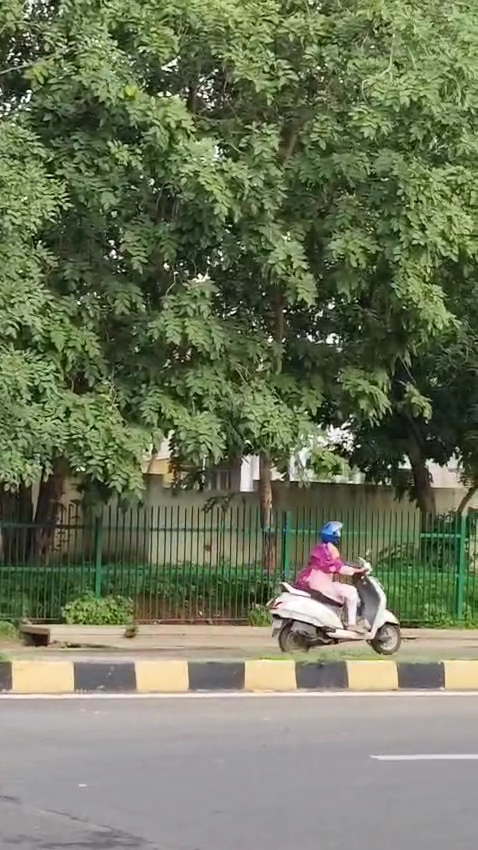BikeWithRider: (261, 517, 407, 661)
Helmet: (315, 519, 346, 546)
